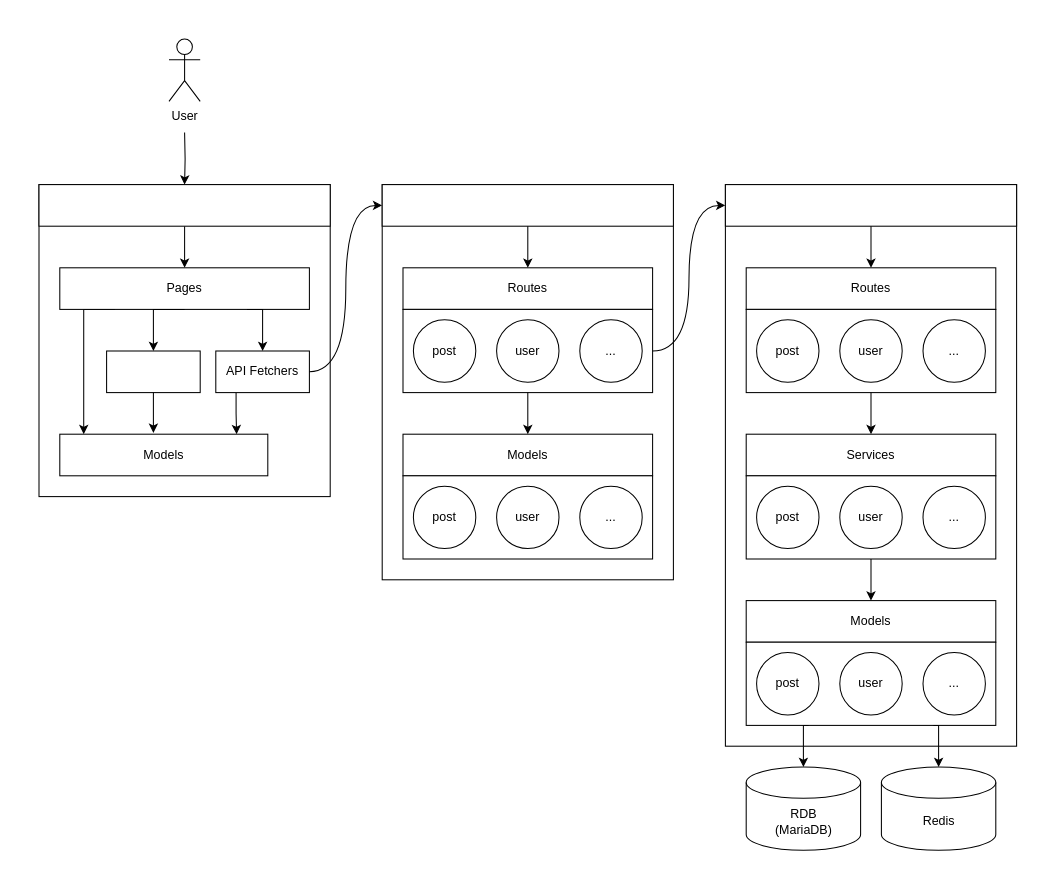
Some shapes in this 1055 by 888 pixel diagram are drawn without their labels. Each missing label, with the centre of its shape:
"API Gateway (main.rs)" belongs at point 527,205.
"Client (index.html)" belongs at point 184,205.
"Components" belongs at point 153,371.
"Server (main.rs)" belongs at point 870,205.
